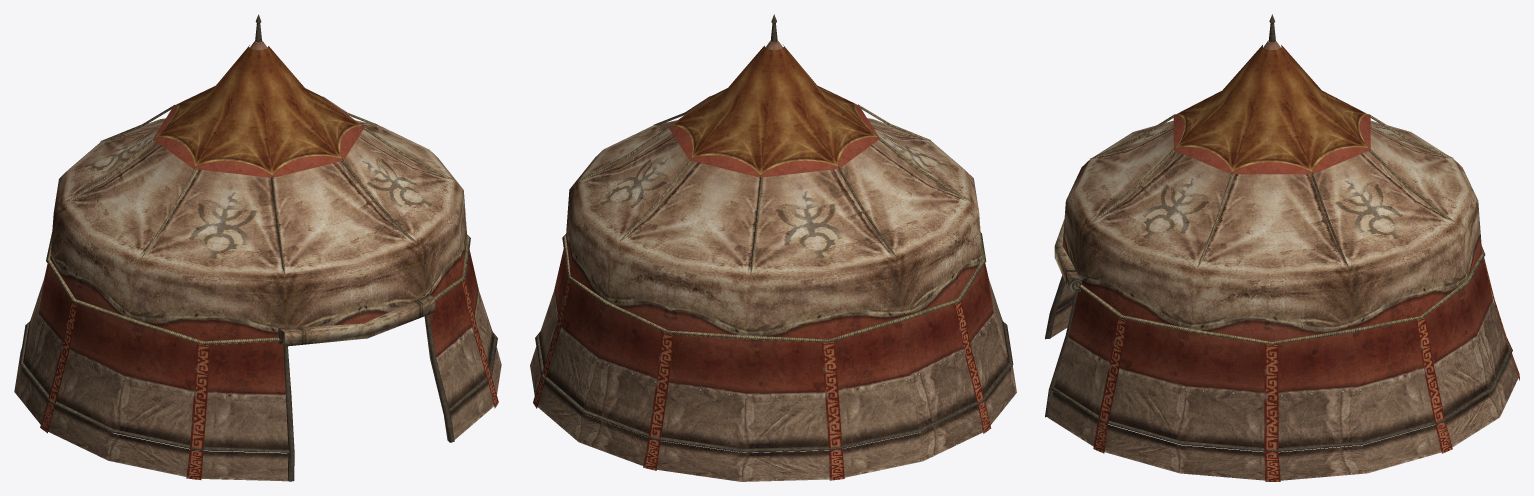
File: triton_tent_01.glb
3 renders of one model, left to right at view 1: azimuth 30°, elevation 25°; view 2: azimuth 150°, elevation 25°; view 3: azimuth 270°, elevation 25°, orthographic.
Visible parts, largest first — view 1: Object19; view 2: Object19; view 3: Object19.
Boxes of the visible parts, left/top/right/bottom form: Object19: left=14, top=14, right=501, bottom=481; Object19: left=530, top=14, right=1016, bottom=481; Object19: left=1045, top=14, right=1519, bottom=481.
Bounding box in the file's own units: 14.81 × 12.07 × 14.26.
1 material, 1 textured.
